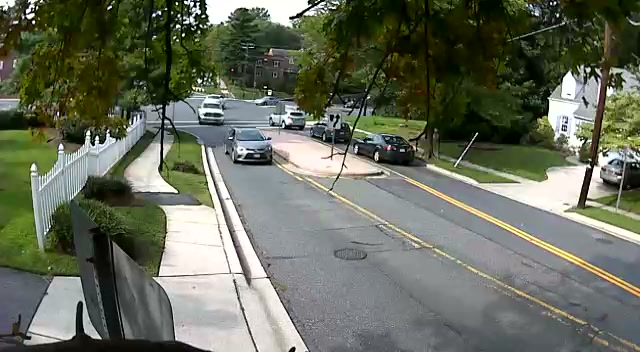car: (350, 133, 414, 165), (229, 127, 273, 164), (600, 149, 640, 189), (310, 116, 352, 144), (320, 120, 352, 144), (197, 99, 225, 126), (283, 110, 306, 130)
